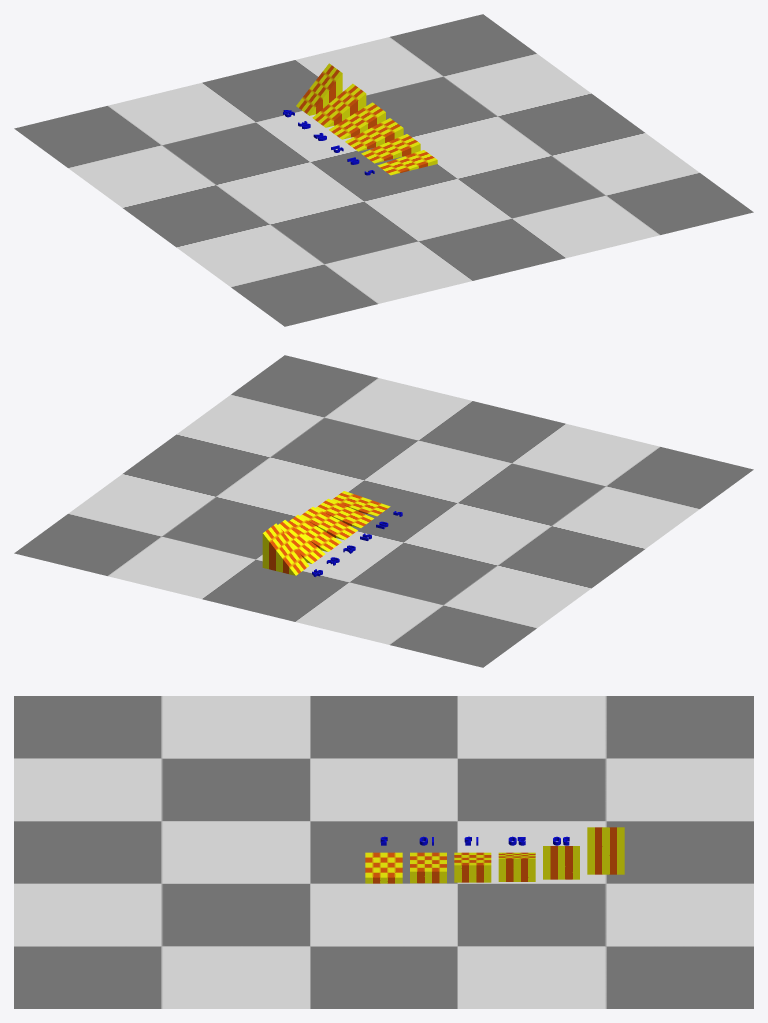
File: character_controller_playground.gltf
3 views of the same model, one above another, from view 1: azimuth 30°, elevation 25°; view 2: azimuth 150°, elevation 25°; view 3: azimuth 270°, elevation 25° (orthographic). The views are drawn at different scales.
Visible parts, largest first — view 1: Combined; view 2: Combined; view 3: Combined.
Boxes of the visible parts, x1=… form: Combined: x1=14, y1=14, x2=753, y2=326; Combined: x1=14, y1=355, x2=753, y2=667; Combined: x1=14, y1=696, x2=753, y2=1008.
Bounding box in the file's own units: 200 × 14.14 × 200.
3 materials, 2 textured.
